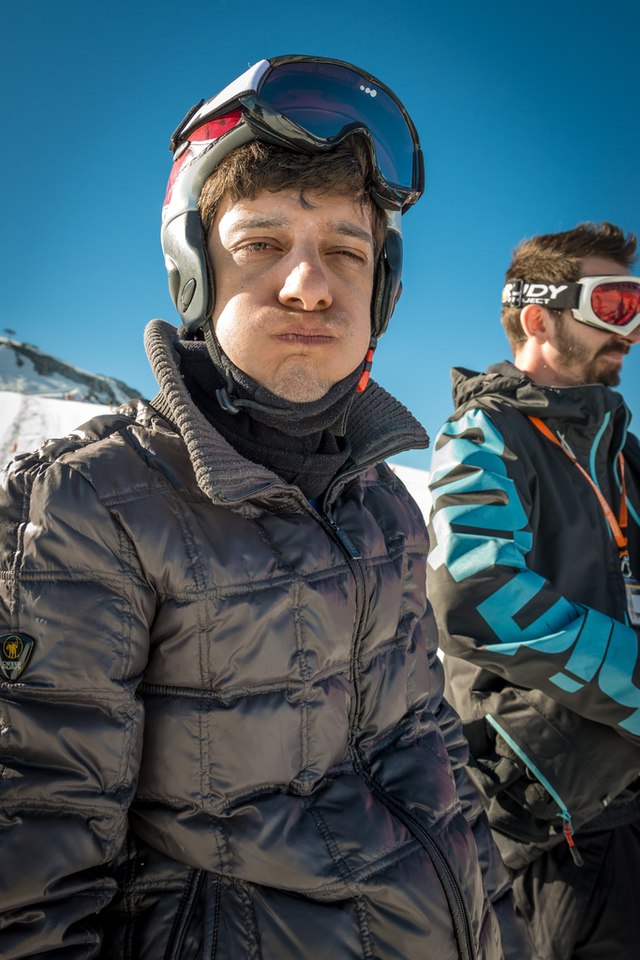helmet: (144, 65, 434, 290)
